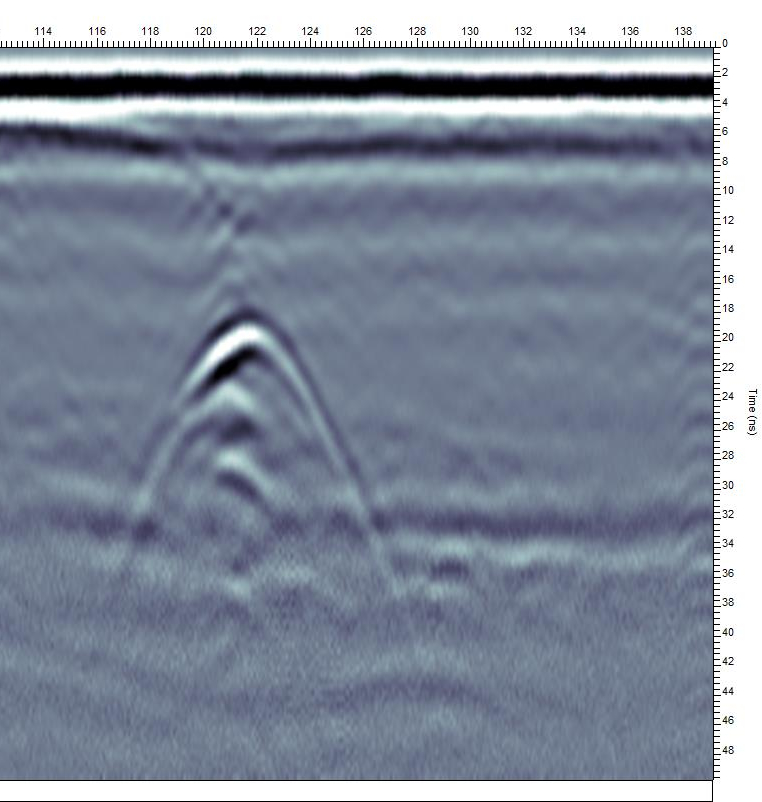hyperbola: (113, 300, 404, 695)
